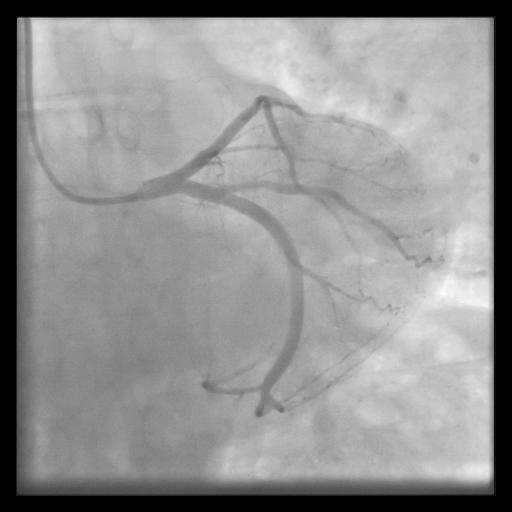Stenosis: (229, 175, 269, 189)
